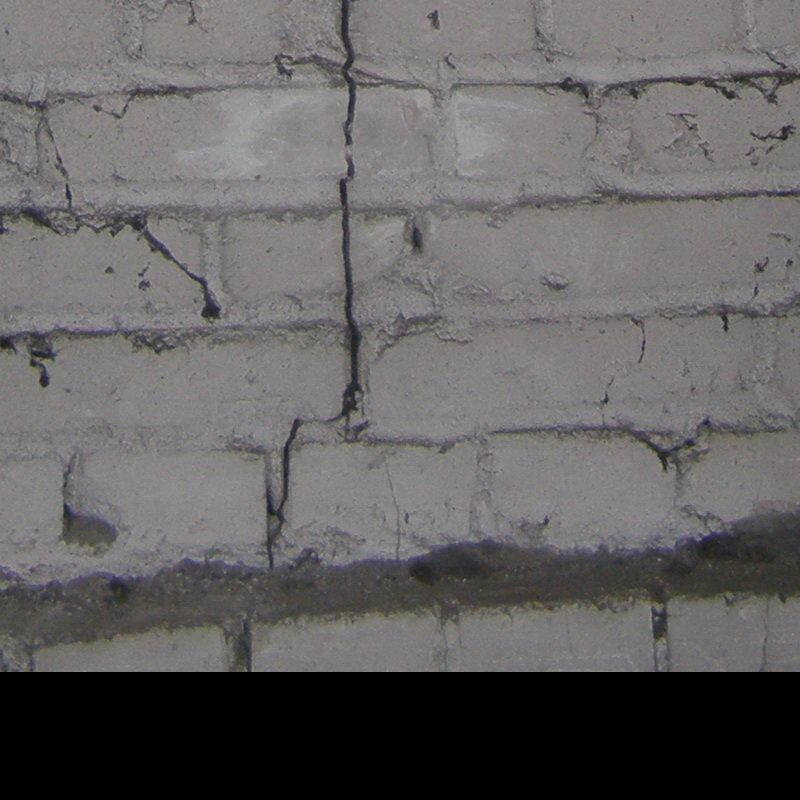pothole: (326, 155, 363, 424), (264, 418, 303, 527), (339, 0, 358, 149)
